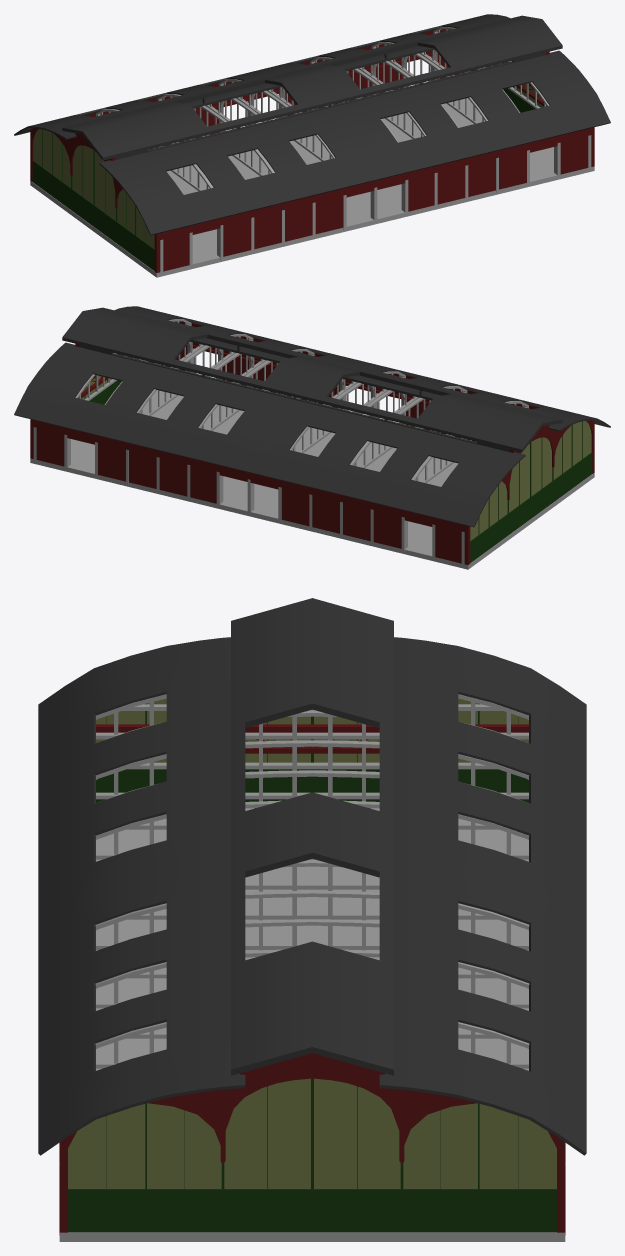
The model's file is hangar_latecoere_meter.fbx.
3 renders of one model, top to bottom at view 1: azimuth 30°, elevation 25°; view 2: azimuth 150°, elevation 25°; view 3: azimuth 270°, elevation 25°, orthographic. The views are drawn at different scales.
Visible parts, largest first — view 1: mur usine001; view 2: mur usine001; view 3: mur usine001.
Part boxes in pixels (x1,y1,x2,y2): mur usine001: (14, 14, 610, 277); mur usine001: (14, 306, 610, 569); mur usine001: (38, 598, 586, 1241).
Bounding box in the file's own units: 315 × 67.3 × 163.
